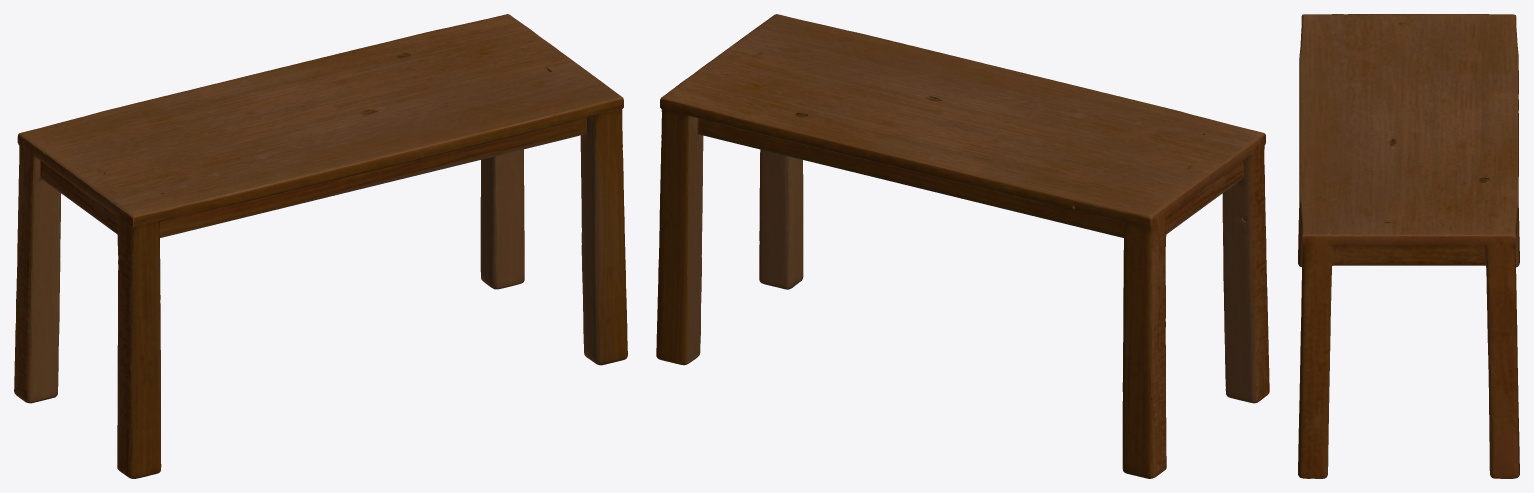
File: L_DINING.industrial.glb
3 views of the same model, side by side, from view 1: azimuth 30°, elevation 25°; view 2: azimuth 150°, elevation 25°; view 3: azimuth 270°, elevation 25° (orthographic). The views are drawn at different scales.
Parts seen in each view (by area): view 1: geometry_0; view 2: geometry_0; view 3: geometry_0.
Boxes of the visible parts, x1=… form: geometry_0: x1=14, y1=14, x2=627, y2=478; geometry_0: x1=656, y1=14, x2=1269, y2=478; geometry_0: x1=1298, y1=14, x2=1519, y2=478.
Bounding box in the file's own units: 1.8 × 0.9039 × 0.7475.
1 material, 1 textured.
